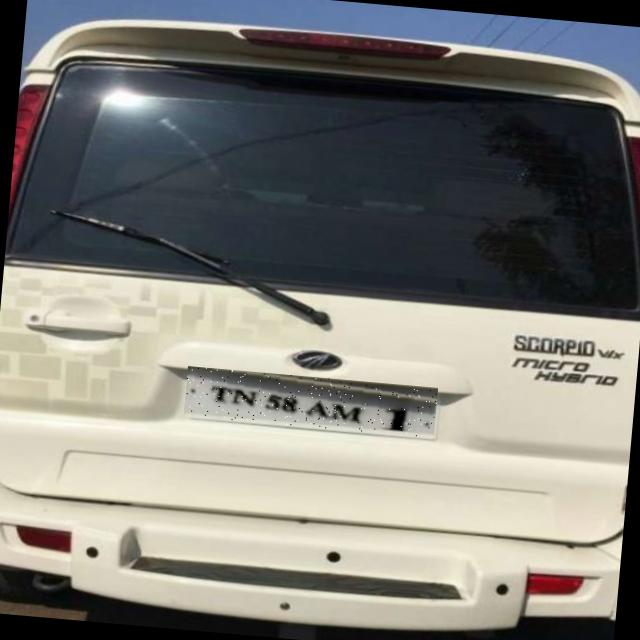Plate: (185, 367, 439, 439)
